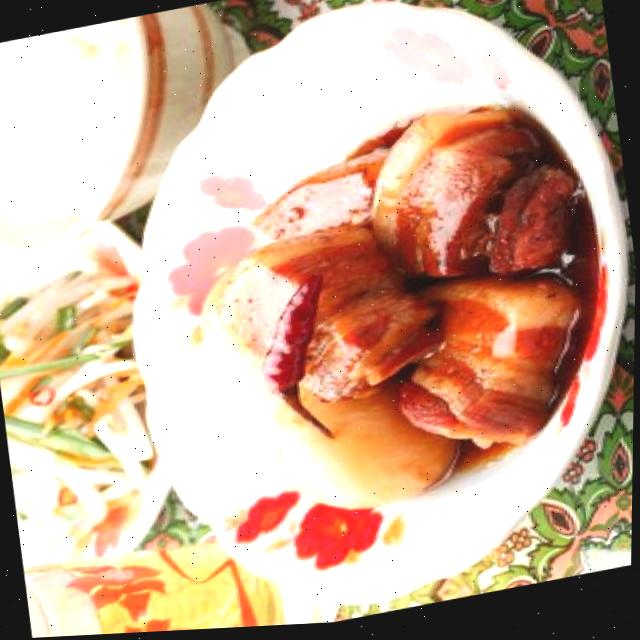猪肉菜式: (158, 80, 608, 553)
